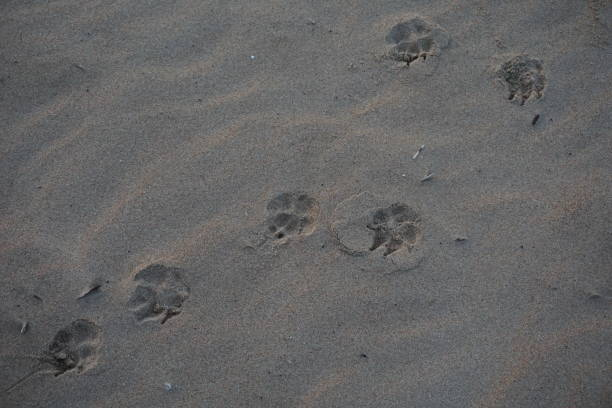animal_foot_print: (331, 192, 422, 271), (3, 319, 101, 392), (128, 264, 189, 323), (42, 319, 100, 375), (386, 17, 449, 64), (367, 203, 419, 255), (265, 192, 319, 241), (497, 55, 545, 104)
